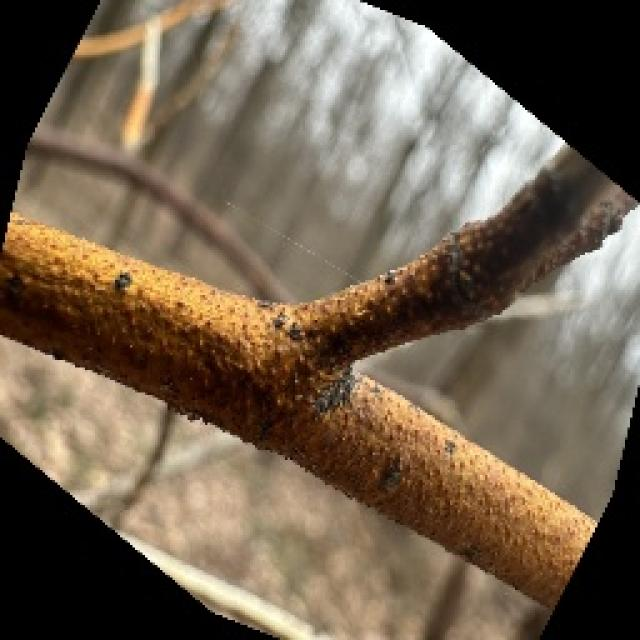Golden_canker: (1, 147, 636, 608)
